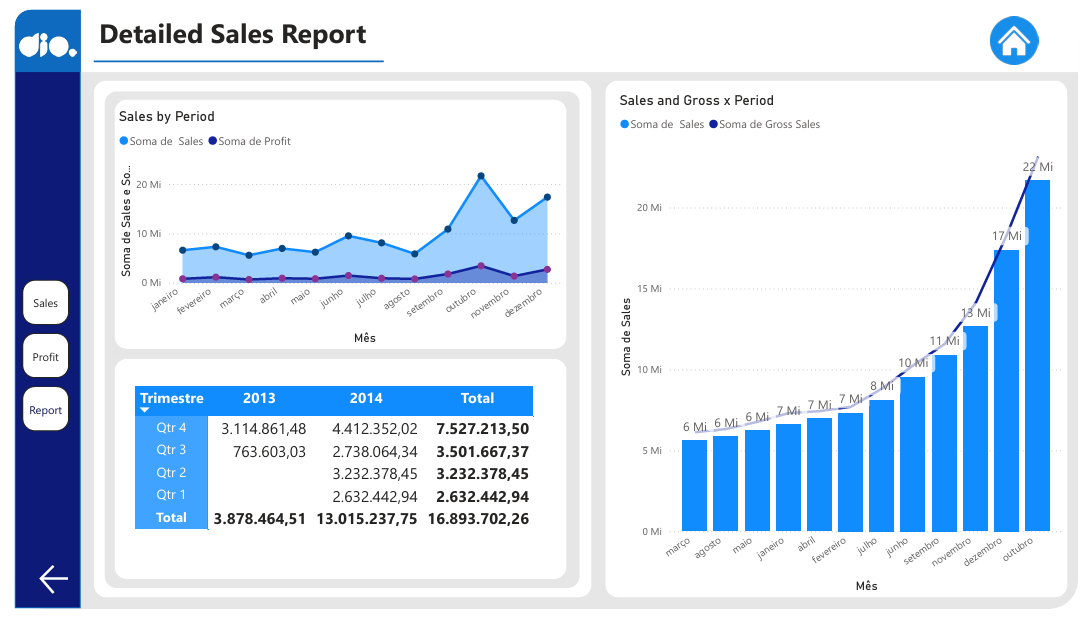

Layout of this report page (visuals, bound fields, positions):
{"tool":"powerbi","page":{"name":"Report","canvas":[1280,720],"ordinal":2},"visuals":[{"type":"shape","box":[0,0,1280.2,721.4],"z":0},{"type":"shape","box":[95,39.3,349.2,45.8],"z":0,"group":"g1"},{"type":"textbox","box":[95.8,0,502.9,56.2],"z":1000,"group":"g1"},{"type":"shape","box":[79.2,0,1201,74.9],"z":1000},{"type":"shape","box":[0,0,79.2,720],"z":2000},{"type":"shape","box":[0,0,79.2,74.9],"z":3000},{"type":"image","title":"Logo_Dio","box":[0,8.6,79.2,66.2],"z":4000},{"type":"group","id":"g1","title":"Title Report","box":[95,0,504,85],"z":6000},{"type":"actionButton","box":[24.7,663.1,54.4,44.5],"z":7000},{"type":"shape","box":[95,85,599,622.1],"z":8000},{"type":"shape","box":[108,97.9,571.7,597.6],"z":9000},{"type":"shape","box":[119.5,420.5,544.3,265],"z":10000},{"type":"pivotTable","fields":{"Values":["Sum(financials.Profit)"],"Columns":["financials.Date.Variation.Hierarquia de datas.Ano"],"Rows":["financials.Date.Variation.Hierarquia de datas.Trimestre"]},"box":[139.7,447.8,499.7,231.8],"z":11000},{"type":"shape","box":[119.5,108,544.3,299.5],"z":12000},{"type":"areaChart","title":"Sales by Period","fields":{"Category":["financials.Date.Variation.Hierarquia de datas.Mês"],"Y":["Sum(financials. Sales)","Sum(financials.Profit)"]},"box":[119.5,118.1,542.9,289.4],"z":13000},{"type":"shape","box":[711.4,85,555.8,622.1],"z":14000},{"type":"lineStackedColumnComboChart","title":"Sales and Gross x Period","fields":{"Category":["financials.Date.Variation.Hierarquia de datas.Mês"],"Y":["Sum(financials. Sales)"],"Y2":["Sum(financials.Gross Sales)"]},"box":[722.9,97.9,544.3,609.1],"z":15000},{"type":"pageNavigator","box":[8.6,325.4,56.2,181.4],"z":17000},{"type":"image","box":[1167.8,2.9,70.6,67.7],"z":17001}]}

Visuals, with their boxes in screenshot pixels (x1, y1, x2, y2), scaled from the page's 1280x720 canvas onto the 1092x628 screenshot:
shape: (0,0,1091,627)
shape: (81,34,379,74)
textbox: (82,0,511,49)
shape: (68,0,1091,65)
shape: (0,0,68,627)
shape: (0,0,68,65)
"Logo_Dio" image: (0,8,68,65)
"Title Report" group: (81,0,511,74)
actionButton: (21,578,67,617)
shape: (81,74,592,617)
shape: (92,85,580,607)
shape: (102,367,566,598)
pivotTable - Sum(financials.Profit) x financials.Date.Variation.Hierarquia de datas.Ano: (119,391,545,593)
shape: (102,94,566,355)
"Sales by Period" areaChart: (102,103,565,355)
shape: (607,74,1081,617)
"Sales and Gross x Period" lineStackedColumnComboChart: (617,85,1081,617)
pageNavigator: (7,284,55,442)
image: (996,3,1057,62)
